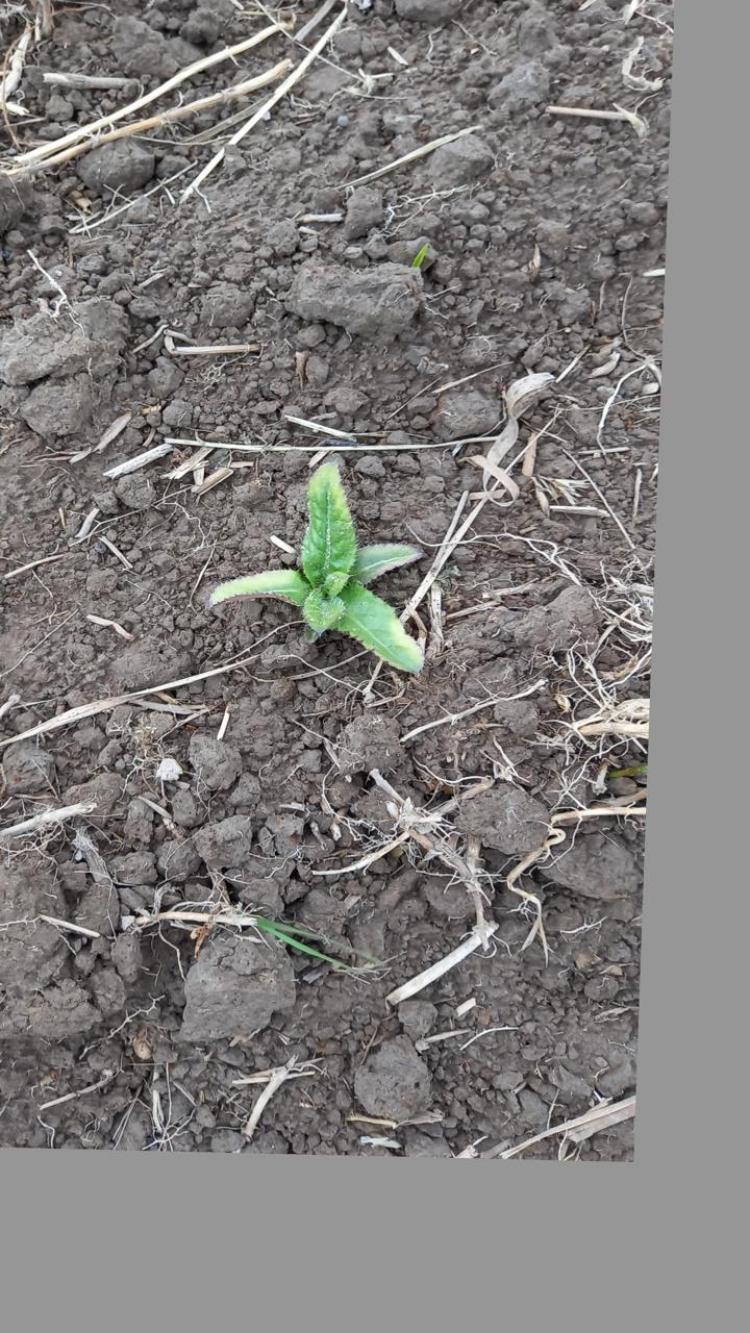bodyak: (204, 458, 427, 681)
